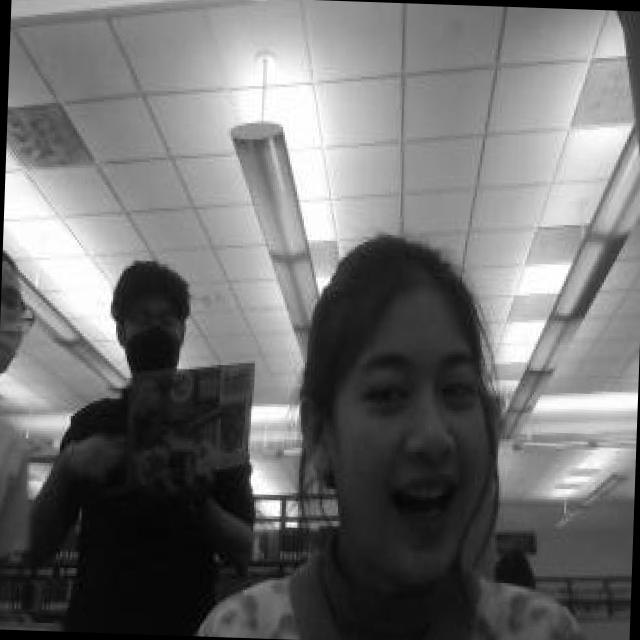Focused: (337, 270, 492, 580)
